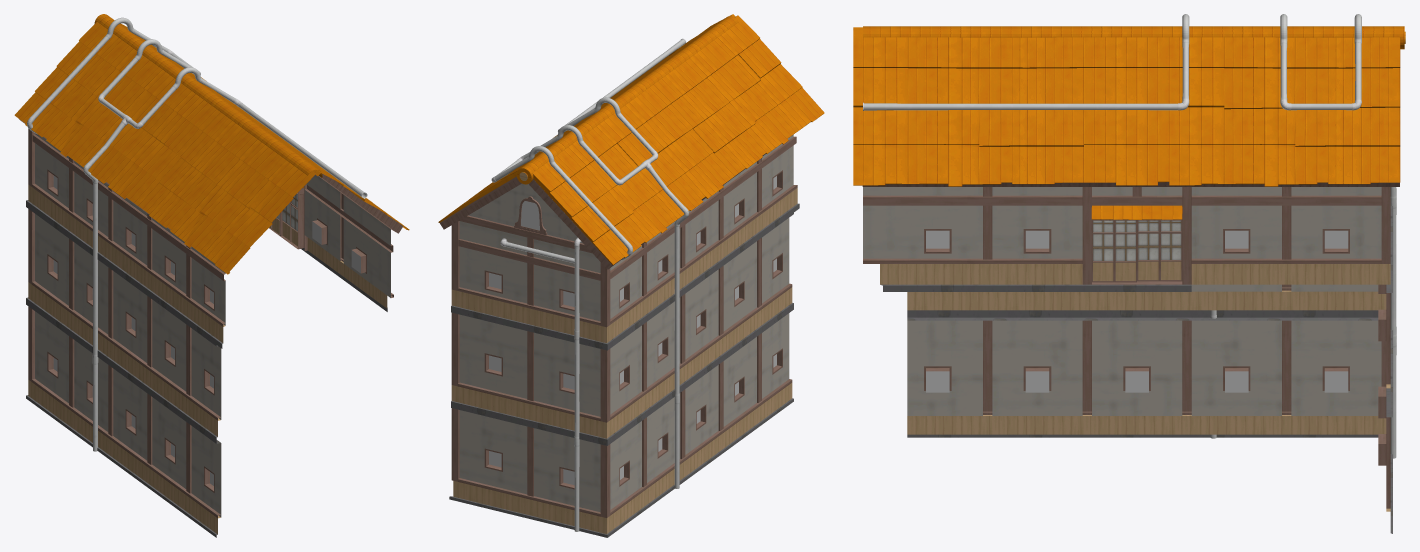
Rendered from SM_ENV_KNVLLG_AreaH_Building_A_3.fbx.
3 views of the same model, side by side, from view 1: azimuth 30°, elevation 25°; view 2: azimuth 150°, elevation 25°; view 3: azimuth 270°, elevation 25° (orthographic). The views are drawn at different scales.
Visible parts, largest first — view 1: SM_ENV_KNVLLG_AreaH_Building_A_3.mo; view 2: SM_ENV_KNVLLG_AreaH_Building_A_3.mo; view 3: SM_ENV_KNVLLG_AreaH_Building_A_3.mo.
Part boxes in pixels (x1,y1,x2,y2): SM_ENV_KNVLLG_AreaH_Building_A_3.mo: (14,14,409,537); SM_ENV_KNVLLG_AreaH_Building_A_3.mo: (438,14,824,537); SM_ENV_KNVLLG_AreaH_Building_A_3.mo: (853,14,1405,533).
Bounding box in the file's own units: 2434 × 4659 × 4936.
